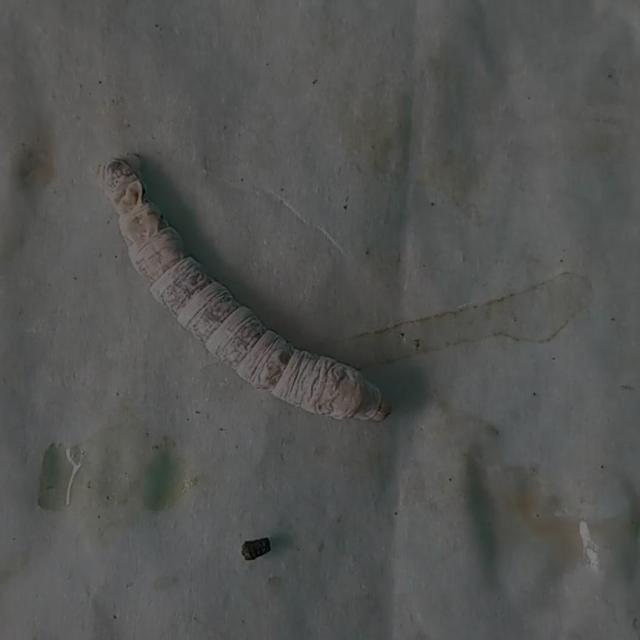Grasserie: (88, 125, 402, 454)
